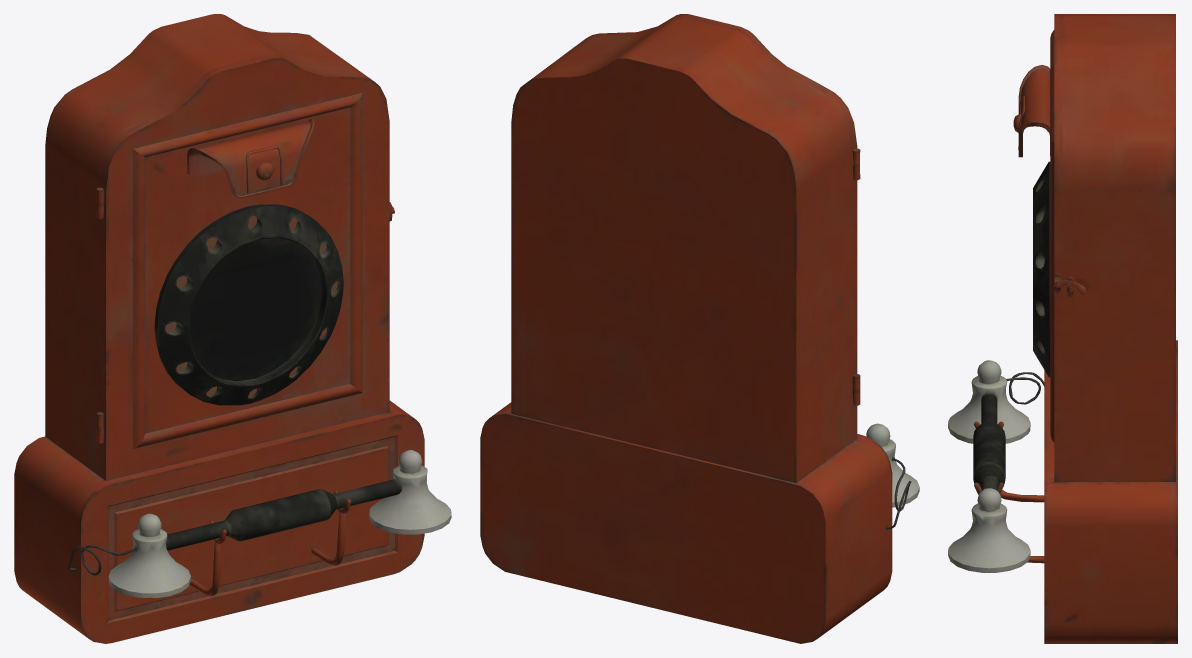
Rendered from house-phone.glb.
3 renders of one model, left to right at view 1: azimuth 30°, elevation 25°; view 2: azimuth 150°, elevation 25°; view 3: azimuth 270°, elevation 25°, orthographic.
Visible parts, largest first — view 1: vintage_telephone_wall_clock; view 2: vintage_telephone_wall_clock; view 3: vintage_telephone_wall_clock.
Boxes of the visible parts, x1,y1,x2,y2 form: vintage_telephone_wall_clock: (14,14,451,643); vintage_telephone_wall_clock: (480,14,919,643); vintage_telephone_wall_clock: (948,14,1177,643).
Bounding box in the file's own units: 0.3426 × 0.5012 × 0.1926.
Materials: 2 (2 with a texture image).
